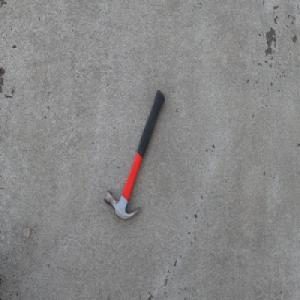Hammer: (104, 88, 165, 221)
